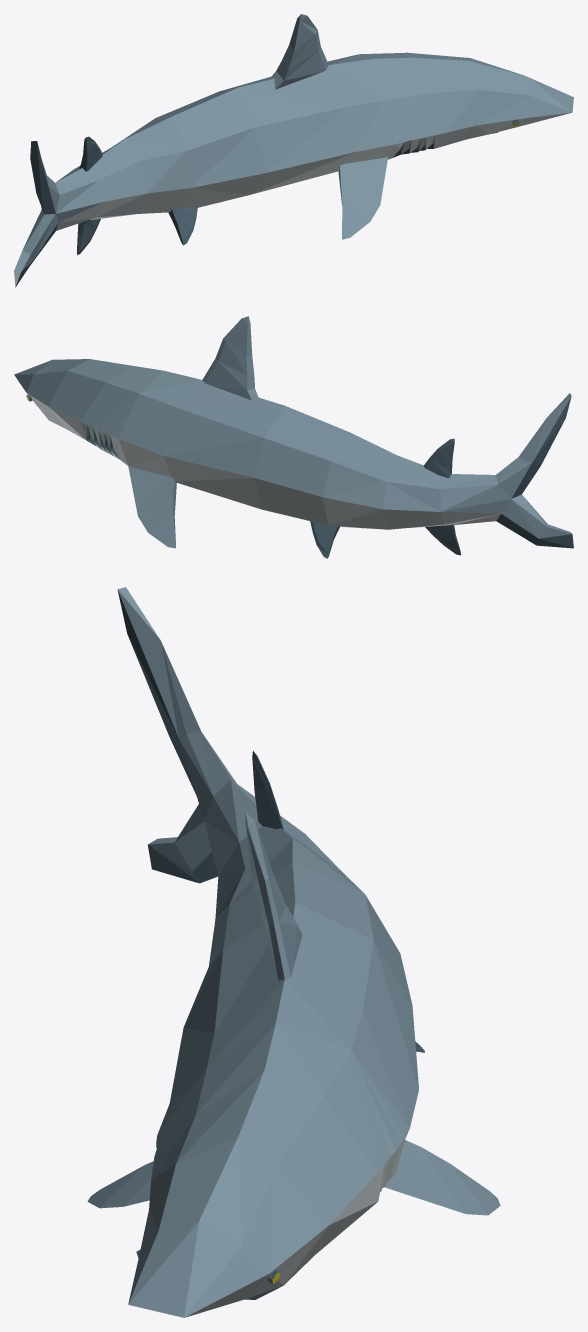
The model's file is v3-great-white-shark.glb.
3 views of the same model, one above another, from view 1: azimuth 30°, elevation 25°; view 2: azimuth 150°, elevation 25°; view 3: azimuth 270°, elevation 25° (orthographic). The views are drawn at different scales.
Visible parts, largest first — view 1: group361308427, group1755243835, group1423737217, group1569974147, group815130091, group627006359; view 2: group361308427, group2136295359, group1423737217, group815130091, group3162243, group627006359; view 3: group361308427, group2136295359, group1423737217, group1755243835, group815130091.
Boxes of the visible parts, box(x1,y1,x2,y2) form: group361308427: box(14, 52, 573, 287); group1755243835: box(338, 157, 387, 239); group1423737217: box(269, 14, 328, 89); group1569974147: box(168, 206, 197, 245); group815130091: box(79, 136, 102, 171); group627006359: box(77, 219, 100, 255); group361308427: box(14, 359, 573, 548); group2136295359: box(128, 466, 176, 548); group1423737217: box(202, 316, 258, 400); group815130091: box(423, 438, 454, 478); group3162243: box(310, 521, 339, 558); group627006359: box(425, 524, 460, 555); group361308427: box(117, 587, 418, 1317); group2136295359: box(384, 1140, 500, 1215); group1423737217: box(245, 812, 302, 980); group1755243835: box(87, 1161, 153, 1208); group815130091: box(252, 751, 283, 829).
Bounding box in the file's own units: 1.21 × 0.4028 × 0.3934.
